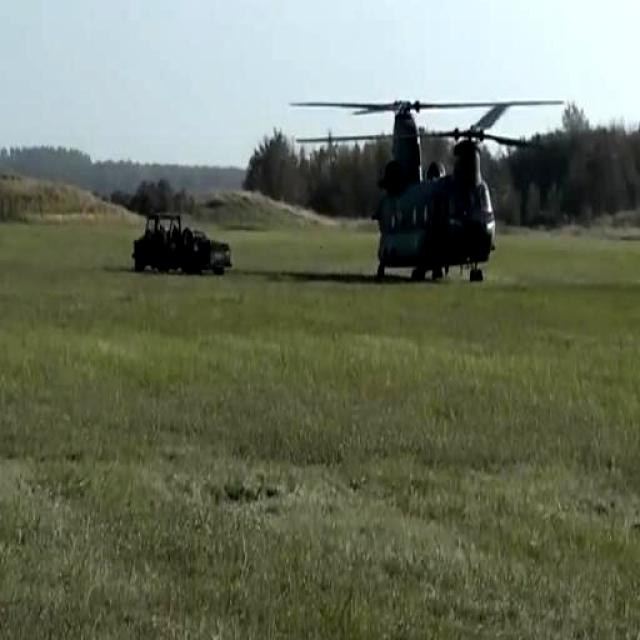drone: (285, 94, 569, 289)
